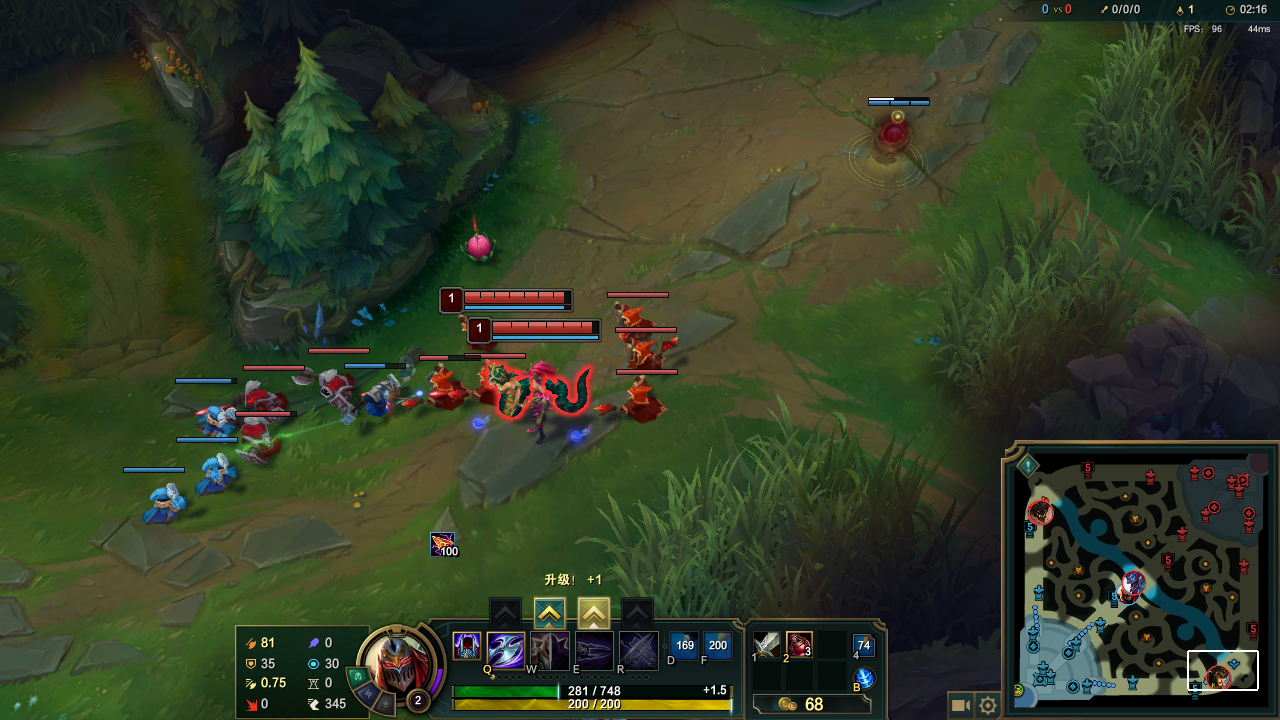DFYX: (489, 319, 600, 335), (465, 290, 570, 302)
